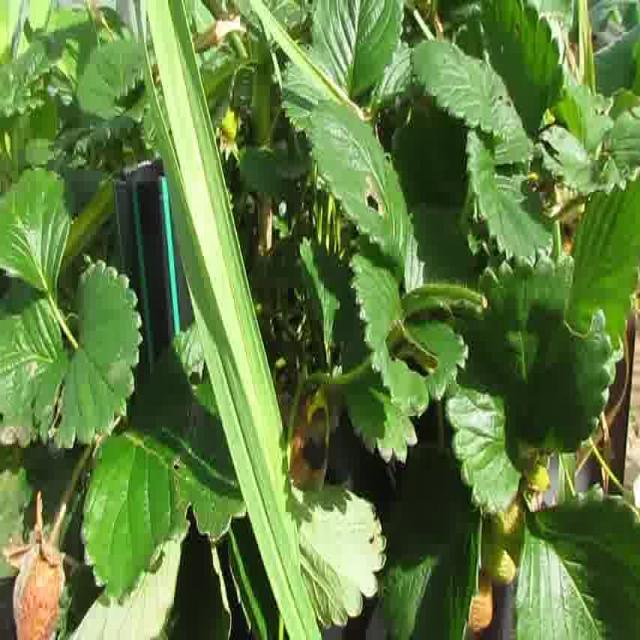Moho gris: (6, 524, 68, 640)
